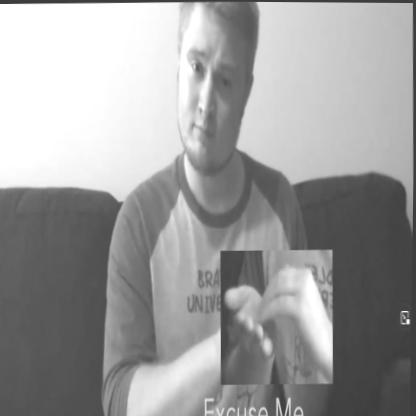ExcuseMe: (220, 248, 335, 384)
